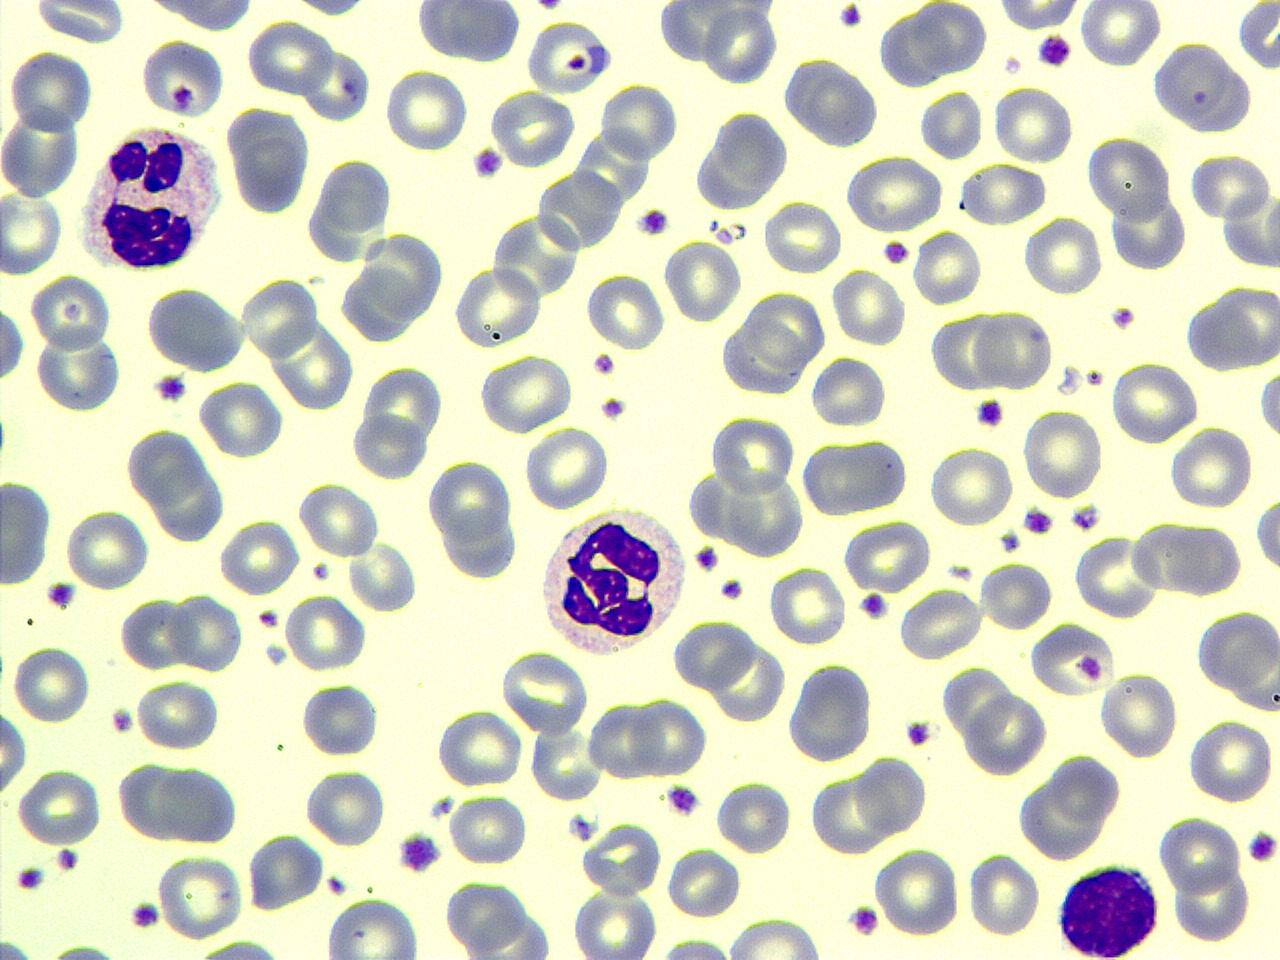Platelets: (395, 830, 444, 874), (1034, 32, 1074, 69), (664, 781, 702, 818), (846, 901, 883, 938), (47, 940, 116, 960), (151, 371, 189, 405), (1246, 828, 1278, 867), (128, 898, 163, 932), (471, 145, 504, 181), (638, 205, 671, 239), (974, 395, 1006, 431), (44, 578, 78, 611), (1020, 507, 1055, 538), (857, 590, 890, 622), (1068, 503, 1104, 533), (15, 863, 48, 893), (904, 717, 932, 750), (880, 238, 912, 266), (262, 640, 291, 670), (109, 704, 135, 735), (1108, 304, 1136, 331), (597, 395, 627, 421), (55, 846, 82, 874), (693, 544, 720, 572), (837, 3, 864, 29), (944, 560, 976, 582), (719, 576, 745, 602), (998, 528, 1024, 555), (0, 412, 14, 460), (591, 351, 617, 376), (429, 794, 455, 820), (532, 0, 566, 14), (258, 608, 280, 628), (312, 561, 332, 581)
RBC: (691, 105, 793, 212), (784, 659, 875, 764), (1149, 40, 1251, 132), (227, 106, 310, 217), (143, 284, 247, 373), (783, 57, 882, 150), (801, 436, 911, 517), (1183, 284, 1280, 373), (492, 208, 582, 302), (309, 153, 393, 251), (272, 314, 355, 412), (845, 153, 944, 235), (1108, 359, 1202, 445), (499, 648, 591, 736), (451, 264, 544, 350), (874, 844, 959, 938), (476, 353, 574, 434), (33, 325, 122, 414), (707, 410, 796, 499), (1022, 404, 1104, 501), (156, 850, 244, 940), (1083, 132, 1173, 220), (1194, 604, 1278, 698), (425, 456, 514, 544), (523, 424, 611, 512), (718, 314, 808, 399), (382, 66, 470, 153), (1186, 716, 1274, 804), (359, 360, 444, 450), (1169, 423, 1255, 512), (926, 442, 1014, 528), (1073, 532, 1159, 620), (1, 103, 79, 200), (8, 46, 93, 135), (538, 166, 622, 256), (366, 228, 445, 322), (63, 507, 151, 592), (1098, 669, 1178, 760), (198, 378, 285, 462), (1156, 812, 1242, 896), (245, 17, 335, 98), (16, 766, 103, 848), (138, 37, 226, 118), (663, 236, 743, 325), (1028, 620, 1118, 699), (492, 89, 577, 171), (599, 80, 681, 164), (436, 707, 524, 787), (966, 848, 1041, 940), (284, 590, 367, 674), (964, 690, 1043, 776), (844, 516, 934, 592), (241, 276, 321, 362), (414, 1, 524, 63), (927, 309, 1008, 392), (1024, 214, 1104, 298), (156, 764, 240, 844), (219, 516, 302, 596), (1110, 190, 1188, 274), (975, 308, 1053, 392), (812, 770, 890, 856), (711, 637, 787, 724), (525, 18, 613, 94), (126, 425, 207, 506), (585, 270, 665, 352), (305, 766, 386, 848), (768, 564, 848, 646), (632, 694, 708, 781), (992, 83, 1072, 163), (11, 642, 91, 724), (437, 502, 520, 581), (762, 197, 845, 275), (29, 272, 113, 350), (897, 585, 983, 661), (672, 615, 756, 692), (134, 678, 220, 752), (856, 752, 928, 840), (297, 479, 378, 558), (247, 830, 326, 911), (445, 876, 527, 954), (578, 820, 660, 896), (322, 896, 422, 959), (702, 5, 780, 86), (587, 698, 661, 782), (169, 590, 244, 674), (1167, 520, 1245, 600), (833, 266, 908, 348), (1187, 150, 1273, 222), (959, 161, 1050, 229), (714, 777, 792, 855), (300, 680, 379, 757), (447, 792, 528, 867), (572, 886, 656, 959), (808, 353, 886, 429), (0, 188, 65, 275), (1079, 0, 1163, 68), (915, 0, 989, 77), (978, 558, 1054, 631), (346, 536, 418, 614), (939, 662, 1011, 740), (666, 844, 742, 918), (119, 595, 190, 673), (911, 227, 982, 306), (352, 408, 426, 482), (302, 46, 373, 124), (918, 87, 982, 162), (724, 914, 828, 958), (32, 0, 128, 45), (1235, 0, 1280, 76), (0, 704, 28, 804), (995, 0, 1081, 32), (0, 295, 27, 388), (1253, 486, 1279, 582), (650, 934, 740, 960), (1256, 352, 1280, 448)
WBC: (434, 0, 1162, 222), (538, 500, 692, 662), (78, 120, 227, 276), (694, 103, 797, 214), (1053, 859, 1165, 959), (144, 284, 251, 372), (1149, 36, 1245, 133), (1185, 282, 1280, 369), (413, 1, 524, 64), (1, 472, 57, 589), (129, 0, 264, 32)
